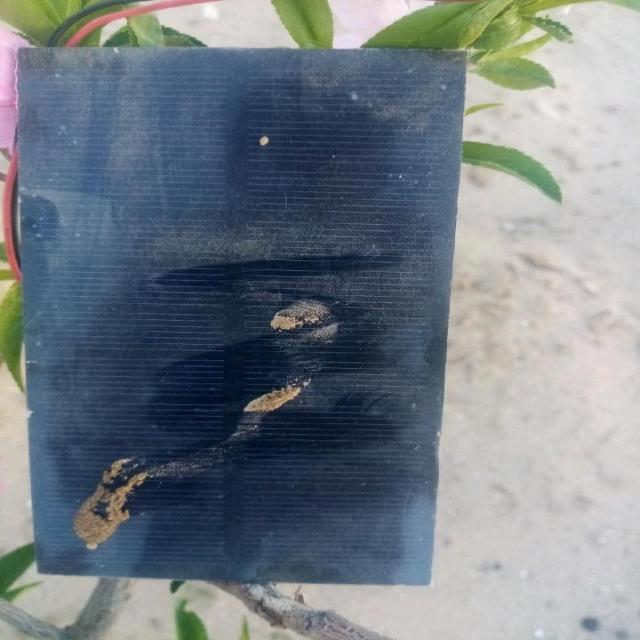faulty: (20, 52, 436, 588)
